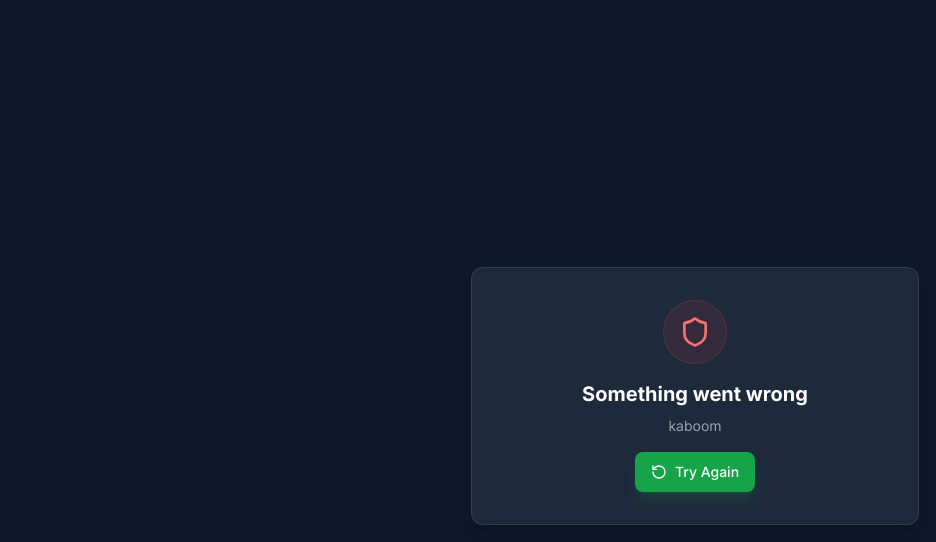
Test: ErrorBoundary › recovers after clicking Try Again
expect the heading "Something went wrong" is shown: met, box [582,382,808,406]
Step 1. Click the button "Try Again" → (695, 472), box [635,452,755,492]
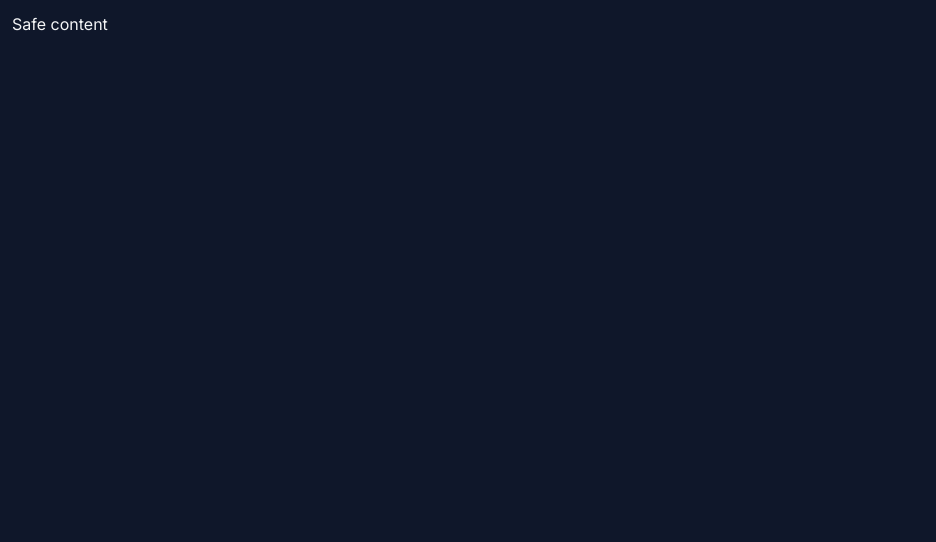
expect the text "Safe content" is shown: met, box [12,14,108,34]
